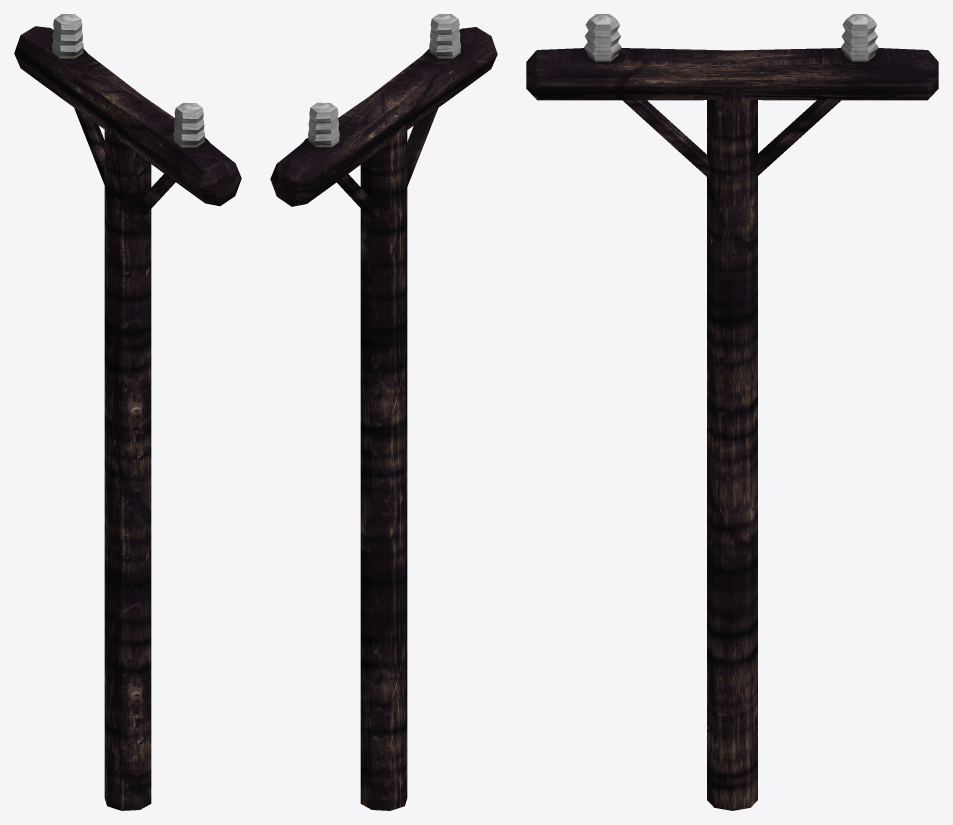
The model's file is CablePole.fbx.
3 views of the same model, side by side, from view 1: azimuth 30°, elevation 25°; view 2: azimuth 150°, elevation 25°; view 3: azimuth 270°, elevation 25° (orthographic). The views are drawn at different scales.
Parts seen in each view (by area): view 1: CablePole; view 2: CablePole; view 3: CablePole.
Boxes of the visible parts, bbox=[...] form: CablePole: bbox=[14, 14, 241, 810]; CablePole: bbox=[270, 14, 497, 810]; CablePole: bbox=[526, 14, 938, 810].
Size of the model in its own units: 13.09 by 216 by 103.
1 material, 1 textured.
